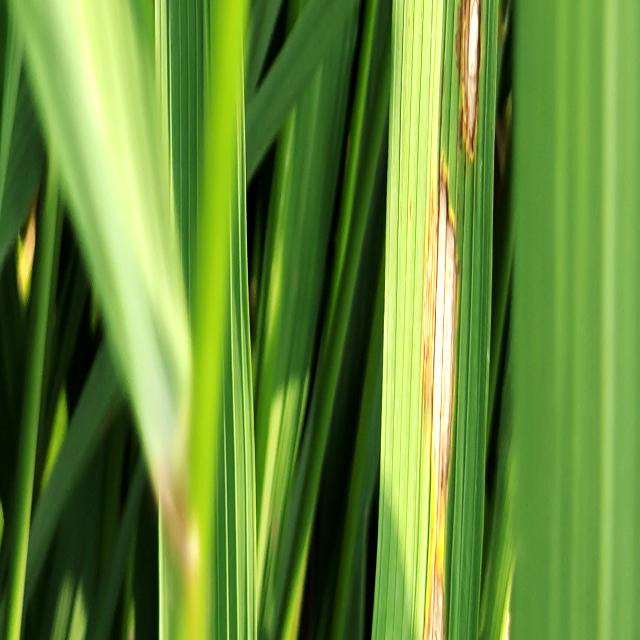LEAF BLAST: (422, 162, 458, 550), (455, 0, 481, 158), (424, 564, 444, 639)
